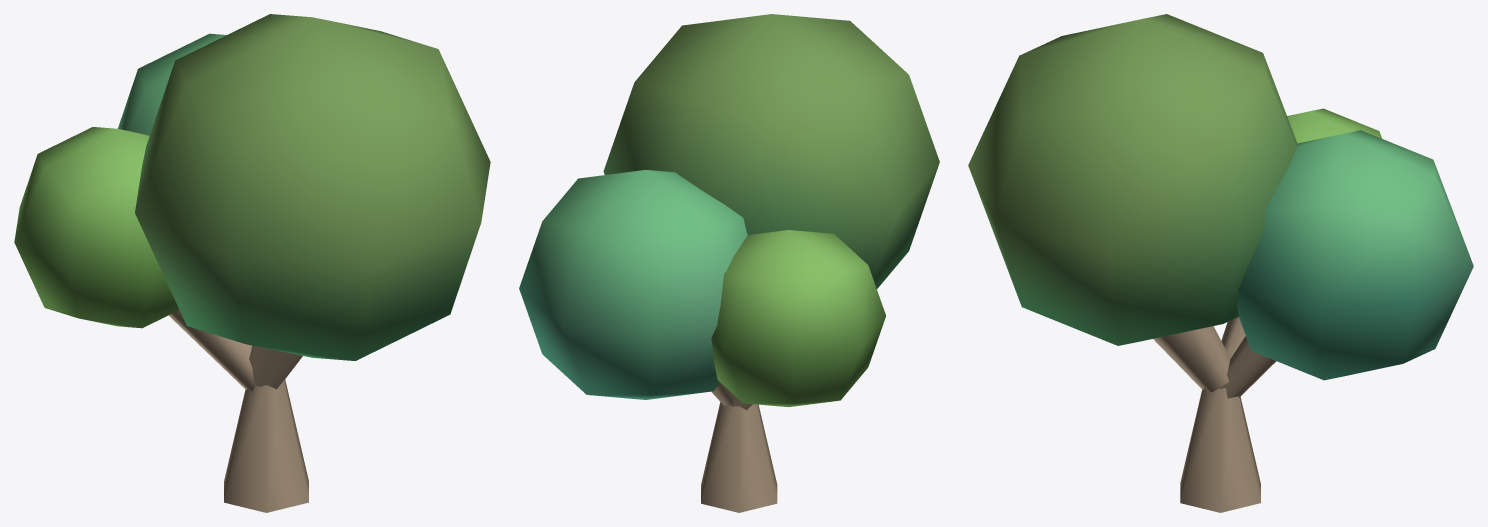
File: boompje.gltf
3 renders of one model, left to right at view 1: azimuth 30°, elevation 25°; view 2: azimuth 150°, elevation 25°; view 3: azimuth 270°, elevation 25°, orthographic. The views are drawn at different scales.
Size of the model in its own units: 11.74 by 15.73 by 15.13.
